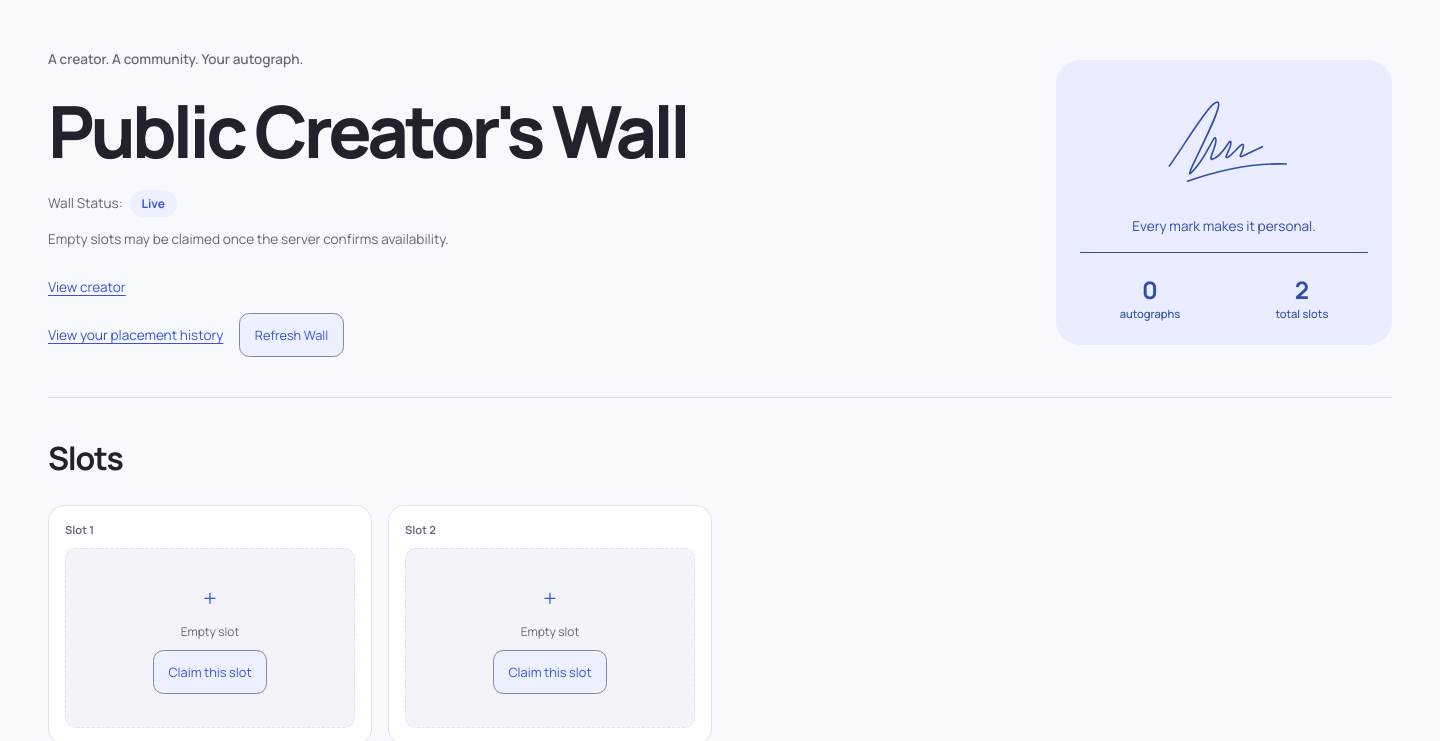
Test: explains WALL_NOT_FOUND without sending another claim
The width and height of the screenshot is (1440, 741).
Click the 1st button "Claim this slot" at (210, 672), box [153,650,267,694]
(page scrolled)
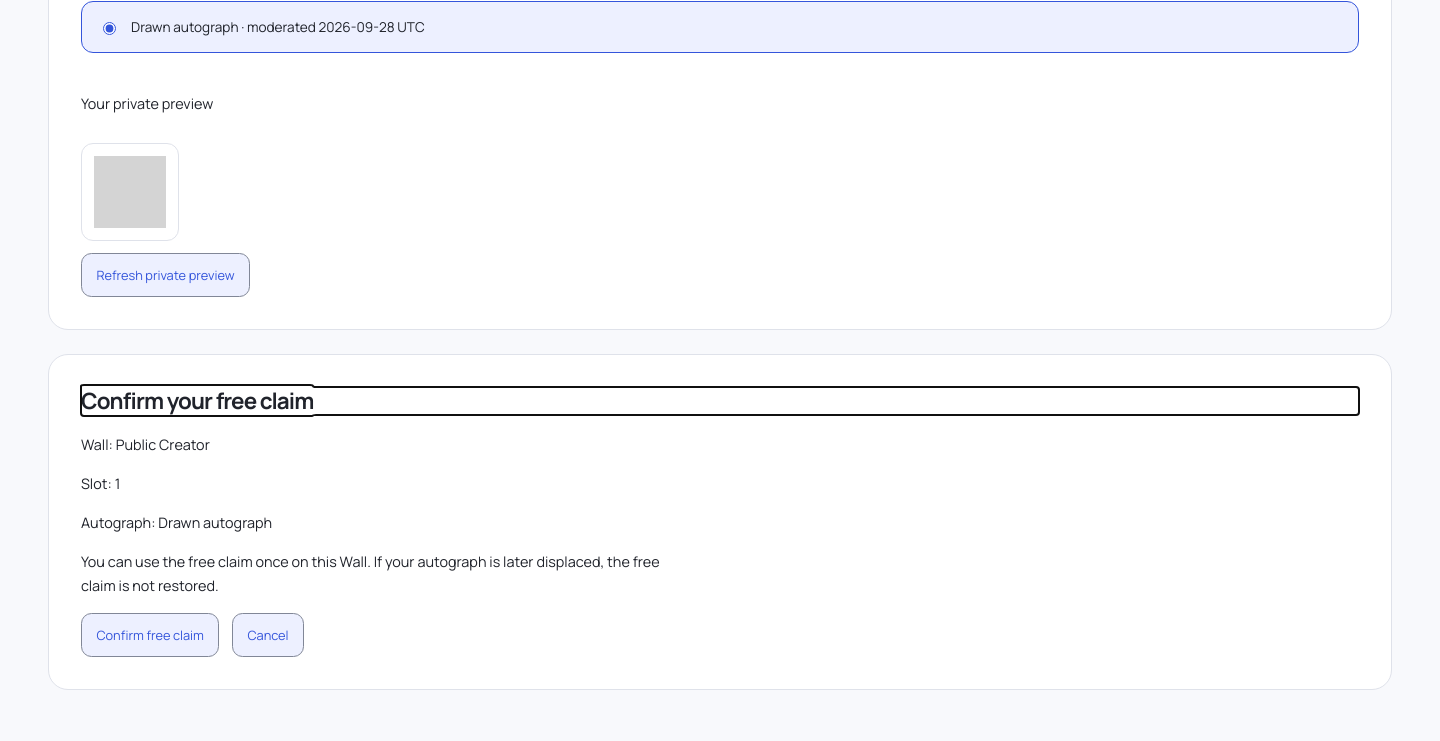
Click the button "Confirm free claim" at (150, 635), box [81,613,219,657]
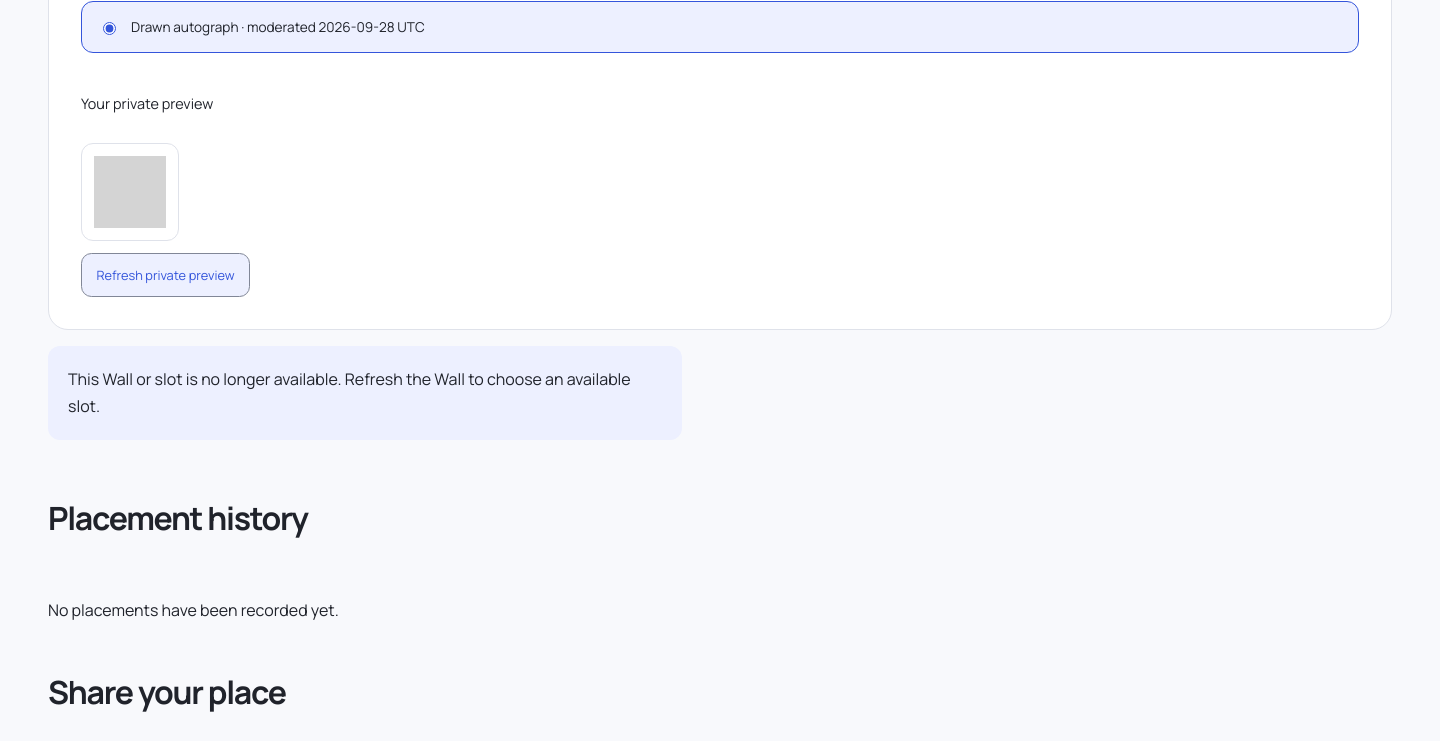
Expected: the text "This Wall or slot is no longer available. Refresh the Wall to choose an available slot." is shown, [68,368,631,417]
